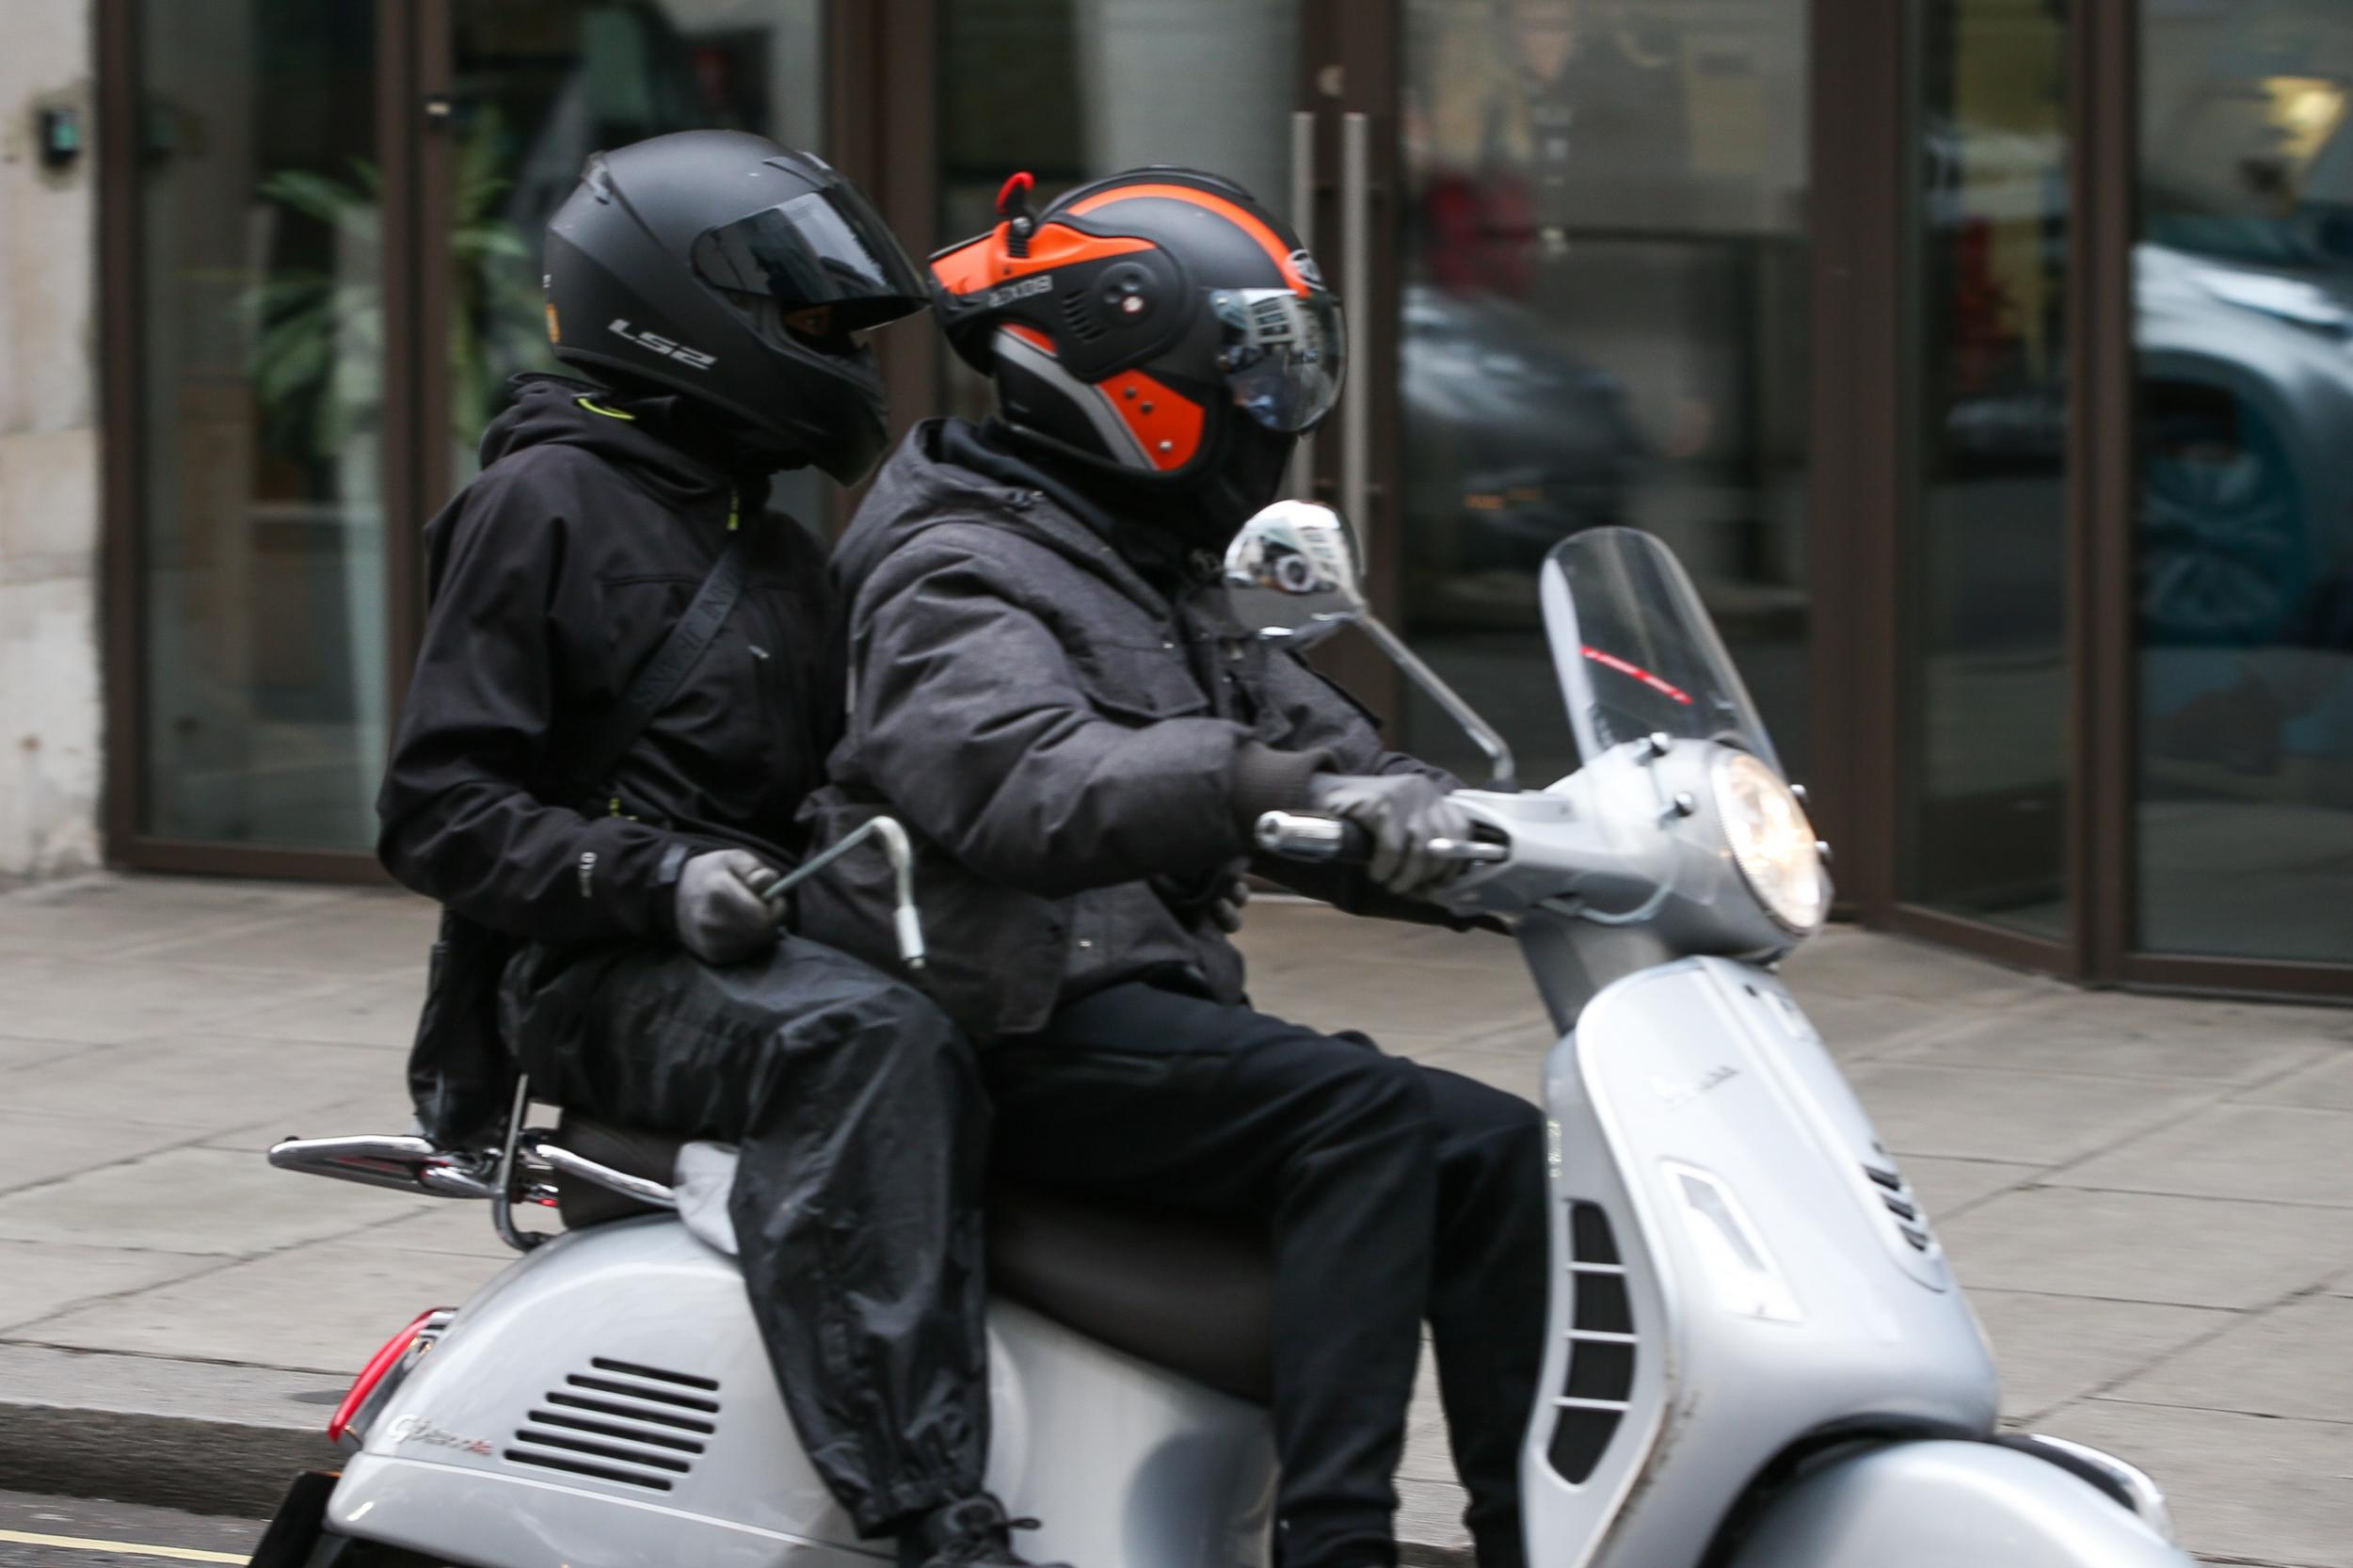helmet: (918, 108, 1940, 1038), (502, 56, 920, 789)
